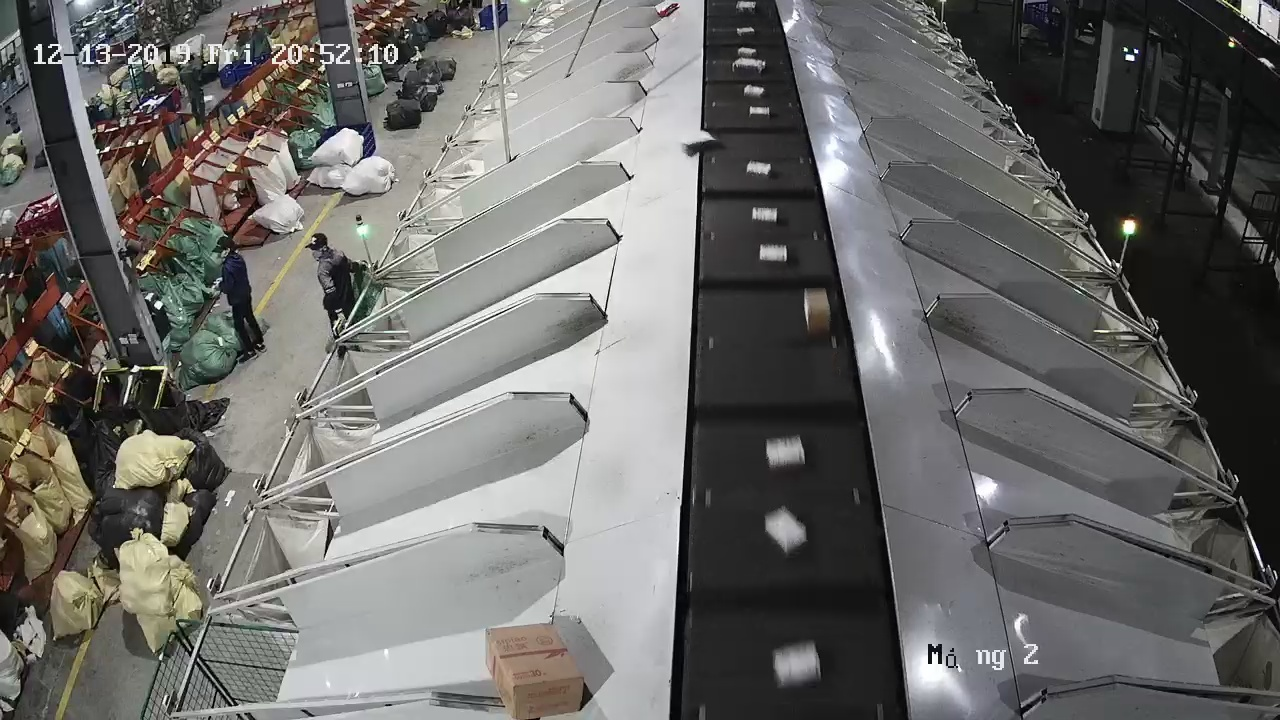parcel: (678, 127, 719, 158)
